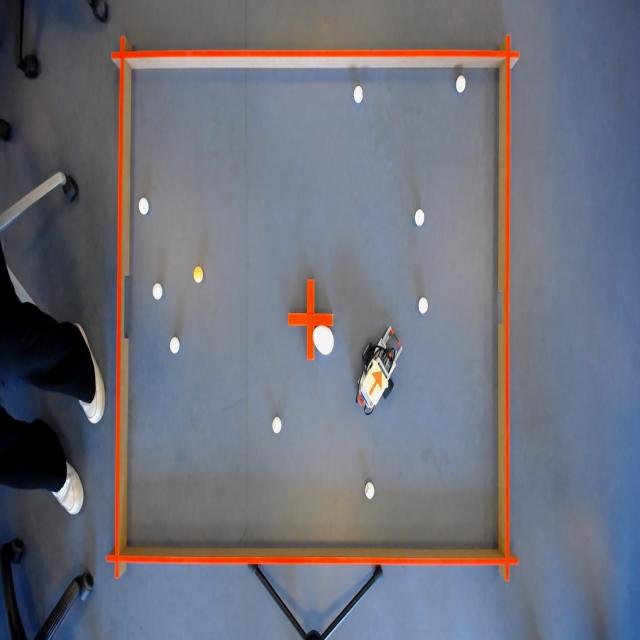cross: (286, 276, 334, 362)
egg: (311, 323, 335, 358)
orange_ball: (192, 264, 205, 288)
robot: (363, 360, 389, 406)
white_ball: (454, 72, 468, 97), (270, 415, 284, 439), (416, 294, 430, 318), (169, 332, 181, 359), (137, 195, 150, 219), (413, 207, 427, 229), (364, 479, 376, 502), (151, 282, 163, 303), (352, 84, 363, 106)
